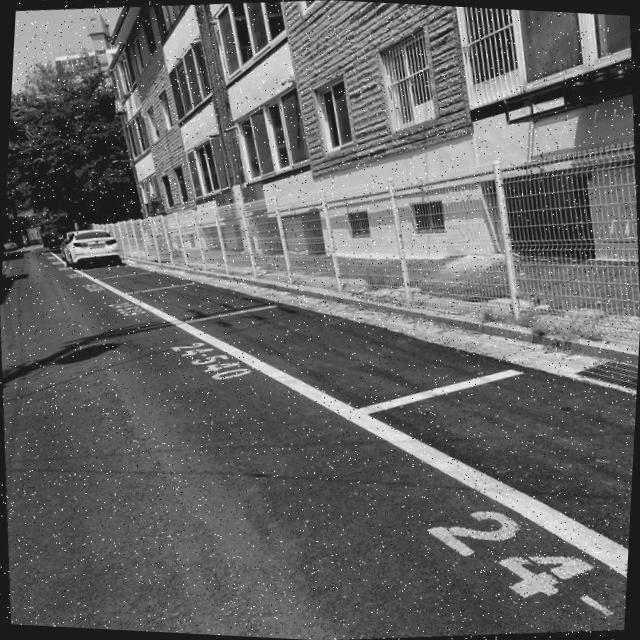free: (393, 393, 636, 532), (203, 303, 470, 410), (142, 280, 232, 316)
